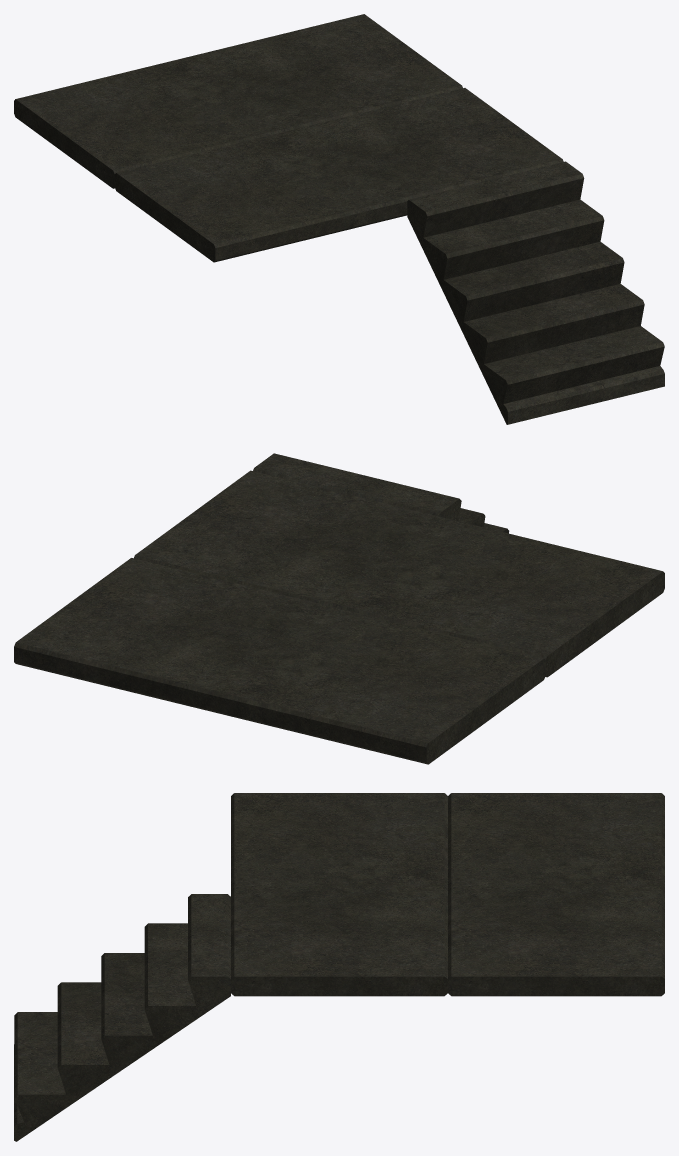
Rendered from stairs_2.fbx.
The picture shows the model from 3 angles, top to bottom: view 1: azimuth 30°, elevation 25°; view 2: azimuth 150°, elevation 25°; view 3: azimuth 270°, elevation 25°; orthographic projection. The views are drawn at different scales.
Parts seen in each view (by area): view 1: stairs_2; view 2: stairs_2; view 3: stairs_2.
Part boxes in pixels (x1=…): stairs_2: x1=14, y1=14, x2=664, y2=424; stairs_2: x1=14, y1=453, x2=664, y2=764; stairs_2: x1=14, y1=793, x2=664, y2=1141.
Size of the model in its own units: 4 by 6 by 1.68.
